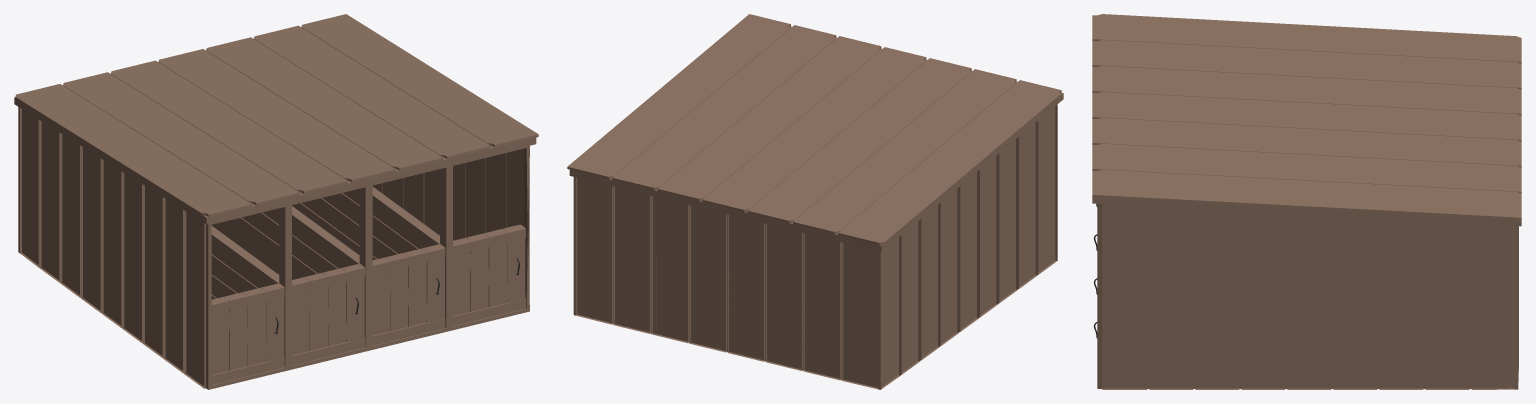
Rendered from stables.fbx.
3 renders of one model, left to right at view 1: azimuth 30°, elevation 25°; view 2: azimuth 150°, elevation 25°; view 3: azimuth 270°, elevation 25°, orthographic. The views are drawn at different scales.
Parts seen in each view (by area): view 1: stables; view 2: stables; view 3: stables.
Part boxes in pixels (x1,y1,x2,y2): stables: (14,14,538,389); stables: (567,14,1063,389); stables: (1092,14,1521,389).
Bounding box in the file's own units: 569 × 289 × 569.
